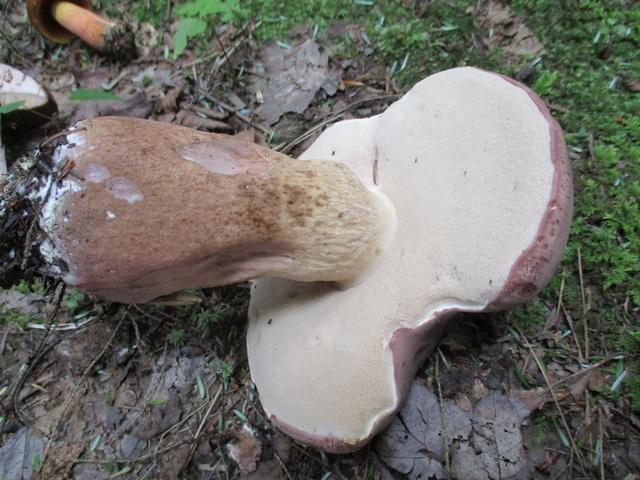poisonous_mushroom: (41, 63, 574, 443)
